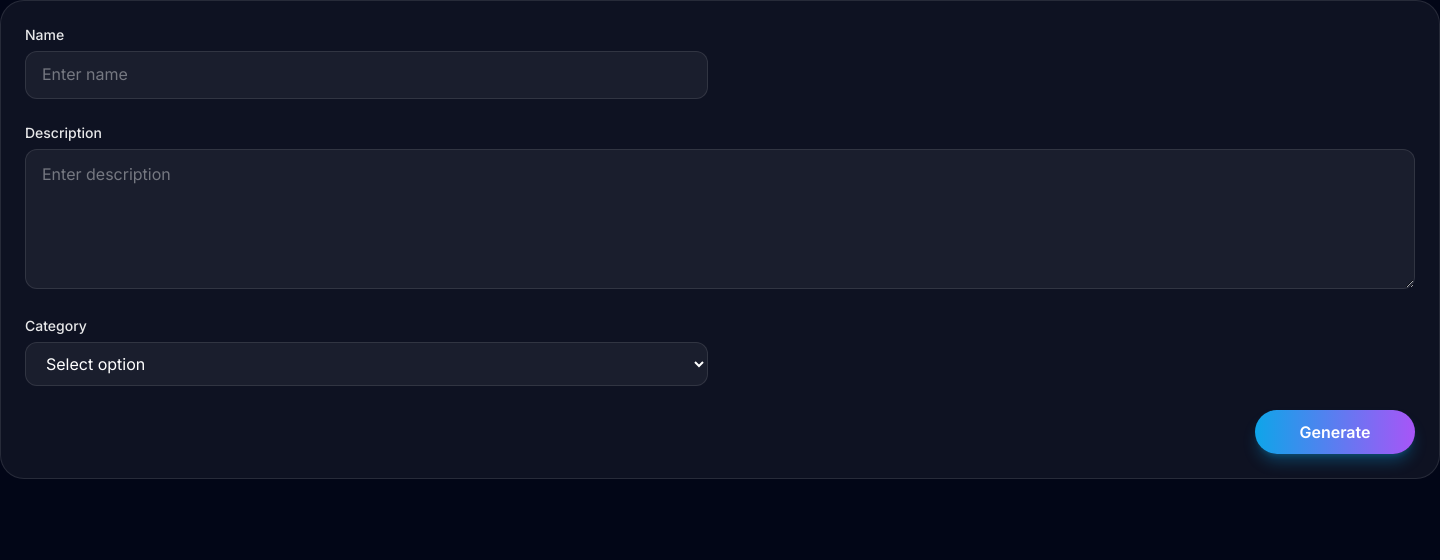
Test: ToolForm › validates required fields
Click the button "Generate". click: (1335, 432)
box: [1255,410,1415,454]
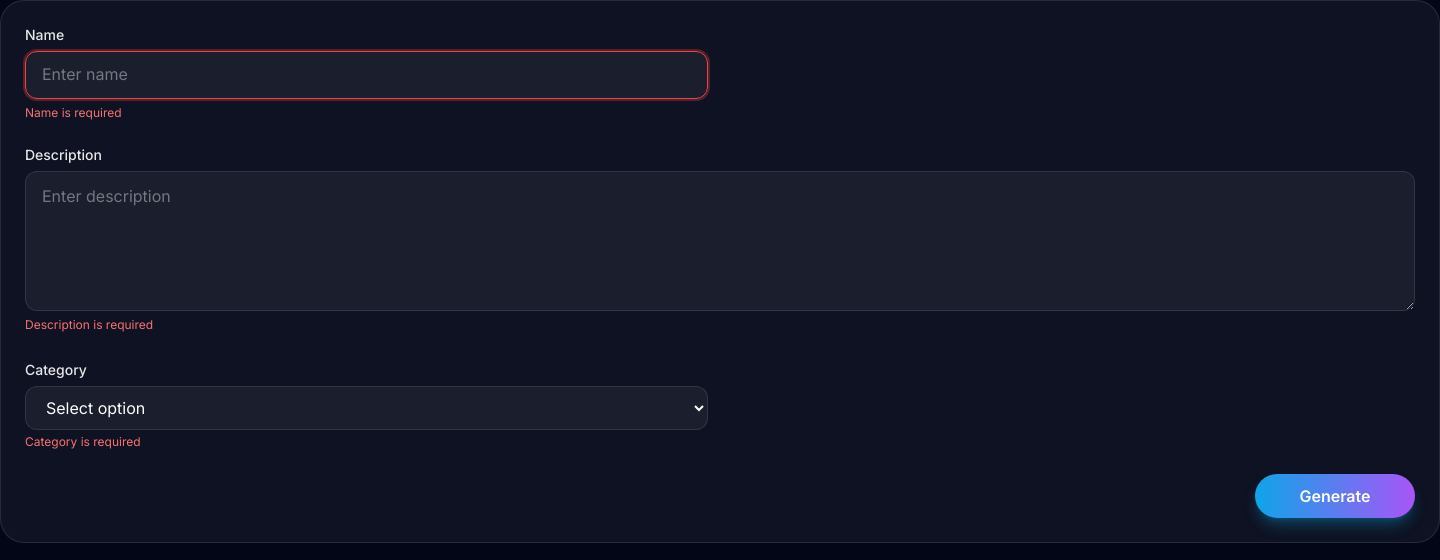
expect the text "Name is required" is shown: met, box [25,105,122,120]
